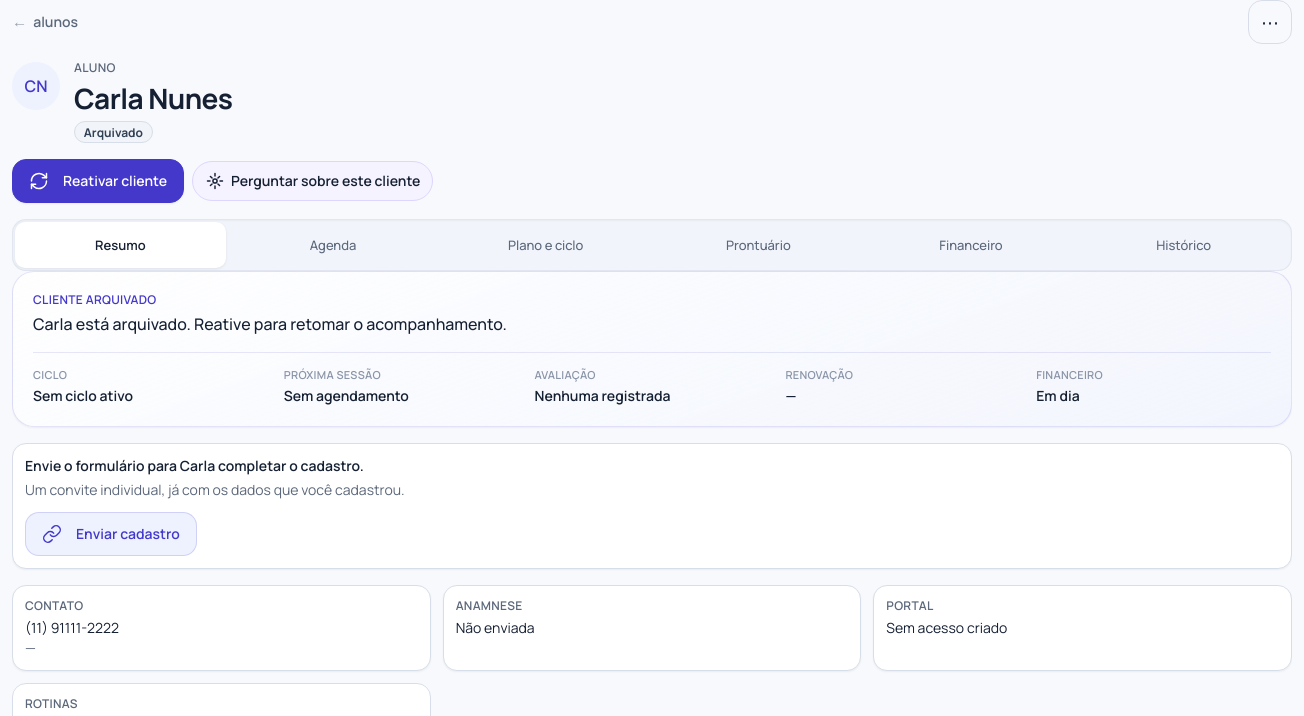
ClientProfile › shows an archived client's status badge in neutral tone and offers Reativar instead of Arquivar
The image size is (1304, 716).
Click the heading named "Mais ações".
click(1270, 22)  # box [1248, 0, 1292, 44]
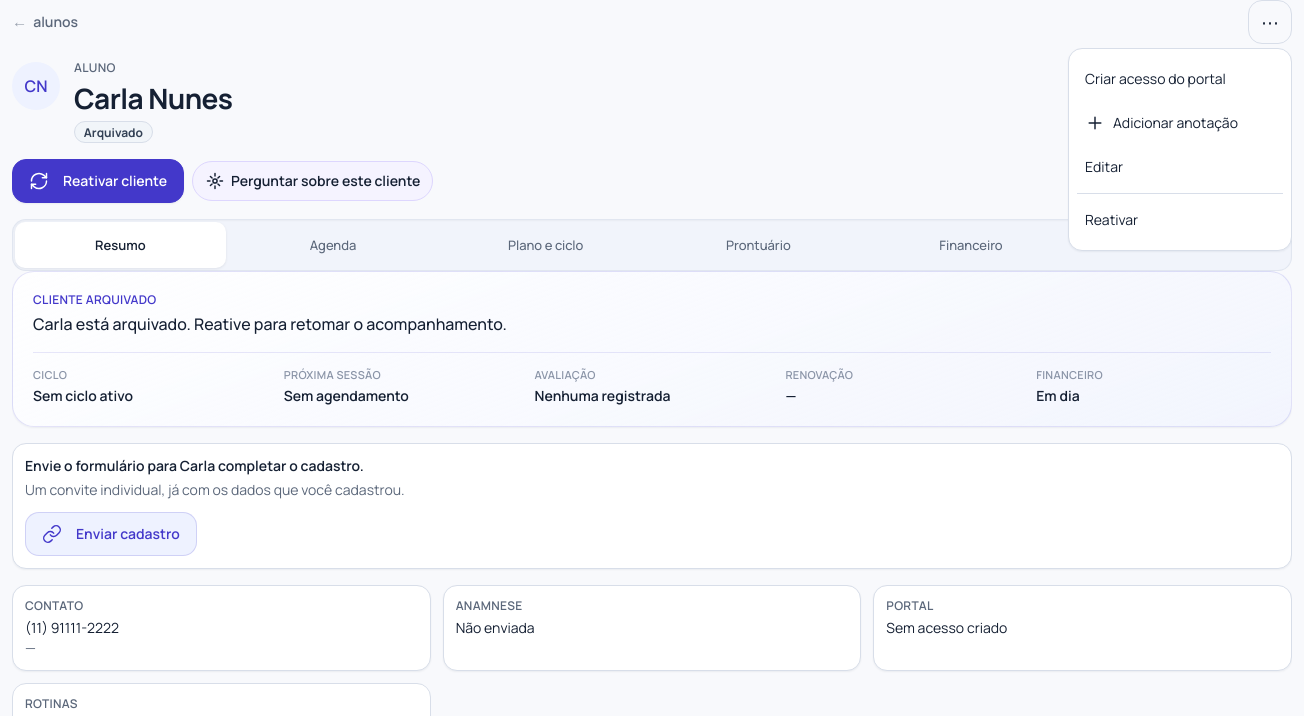
Expected: the button "Reativar" is shown, [1077, 198, 1283, 242]
